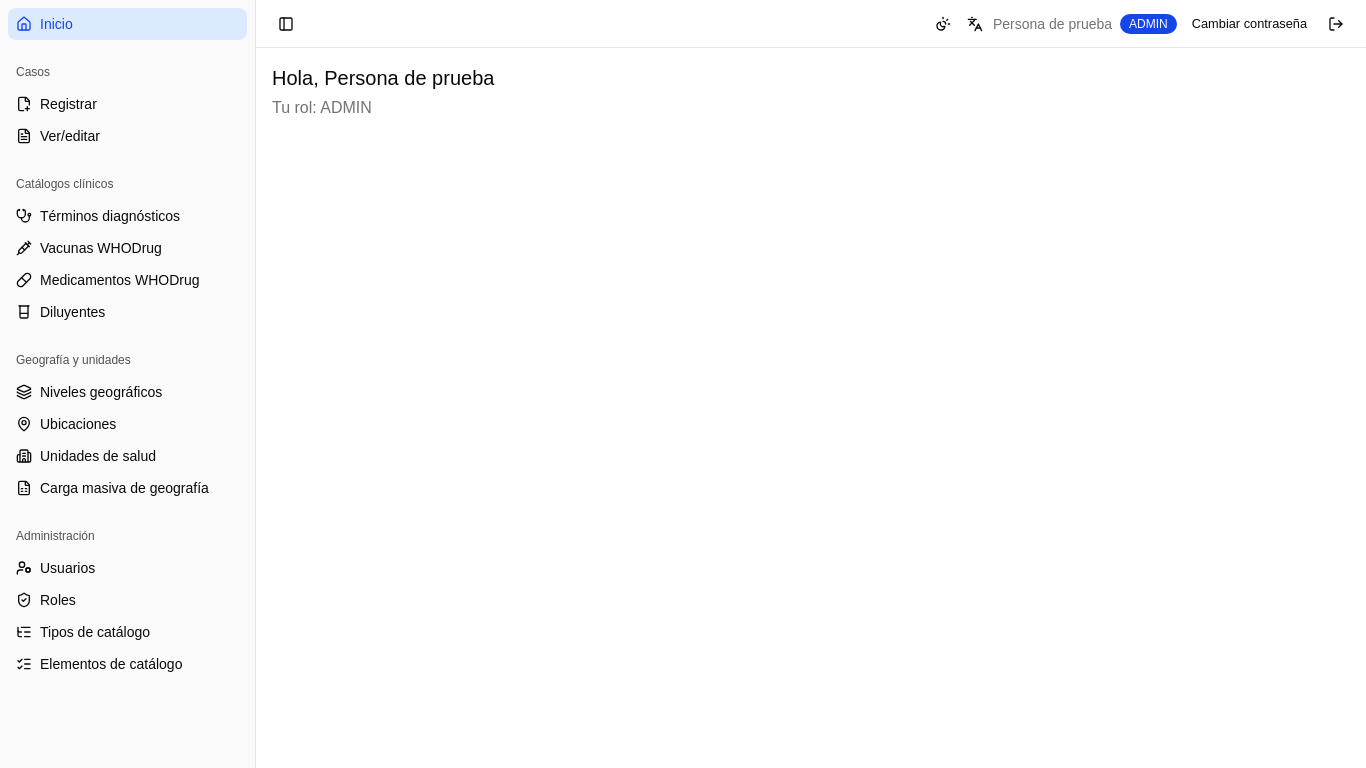
Test case: Ruta /geo-locations/import — navegación desde el sidebar › el enlace del sidebar navega a la pantalla de carga masiva
The width and height of the screenshot is (1366, 768).
Click the link "Carga masiva de geografía" at (112, 488), box [16,480,209,496]
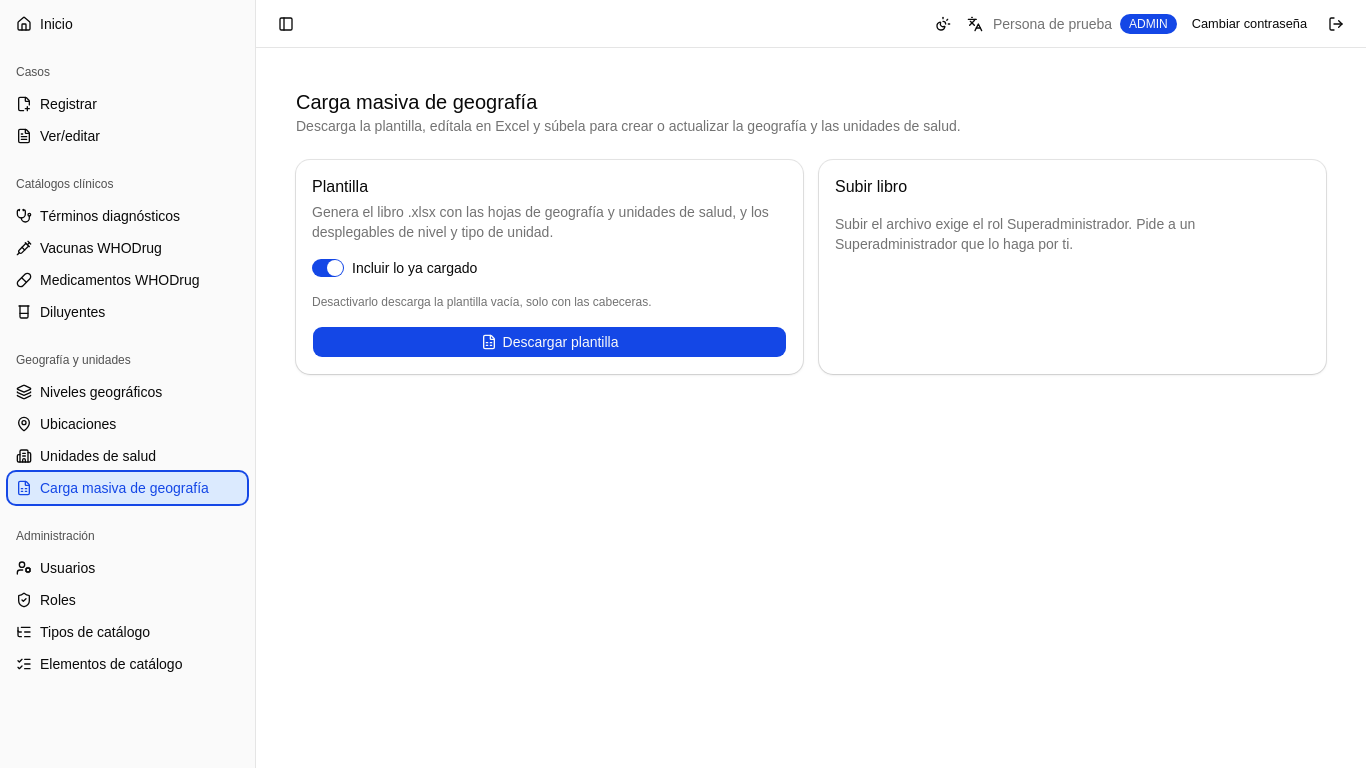
Now the heading "Carga masiva de geografía" is shown, box [296,91,537,113]
